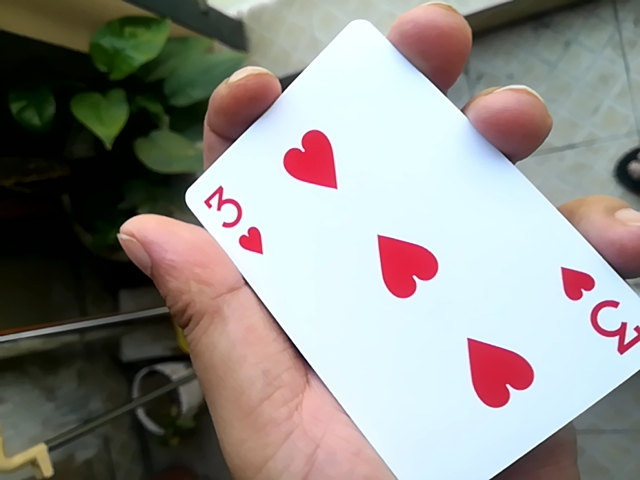hx 3: (164, 17, 631, 480)
